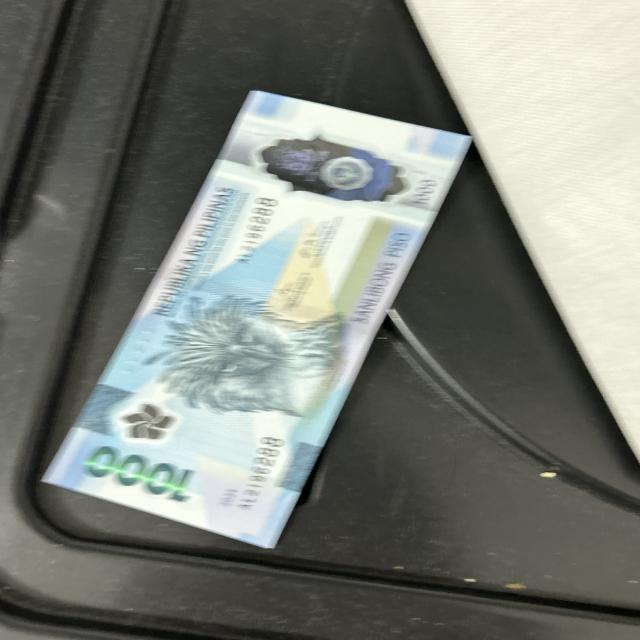clear_window: (258, 133, 420, 203)
eagle: (148, 294, 344, 405)
sampaguita: (121, 399, 180, 445)
